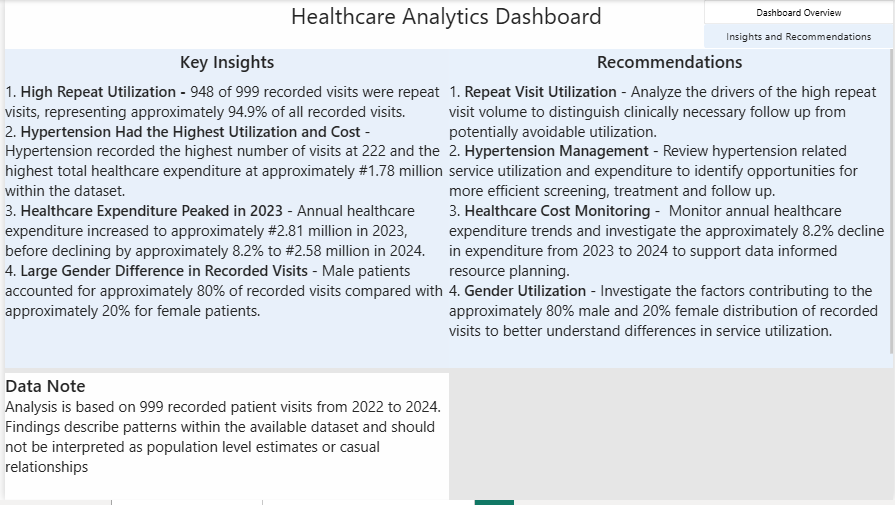

Layout of this report page (visuals, bound fields, positions):
{"tool":"powerbi","page":{"name":"Insights and Recommendations","canvas":[1920,1080],"ordinal":1},"visuals":[{"type":"textbox","box":[0,0,1920,105.8],"z":0},{"type":"pageNavigator","box":[1509.3,0,410.7,105.8],"z":1000},{"type":"textbox","box":[0,105.8,959,689],"z":2000},{"type":"textbox","box":[959,105.8,961.2,689],"z":3000},{"type":"textbox","box":[0,805.7,959,274.3],"z":4000}]}

Visuals, with their boxes on the page's 1920x1080 design canvas (x1, y1, x2, y2). These are canvas units, not pixel positions in the 895x505 screenshot, which may show the page scaled, cropped or inside an application window:
textbox: l=0, t=0, r=1920, b=106
pageNavigator: l=1509, t=0, r=1920, b=106
textbox: l=0, t=106, r=959, b=795
textbox: l=959, t=106, r=1920, b=795
textbox: l=0, t=806, r=959, b=1080
